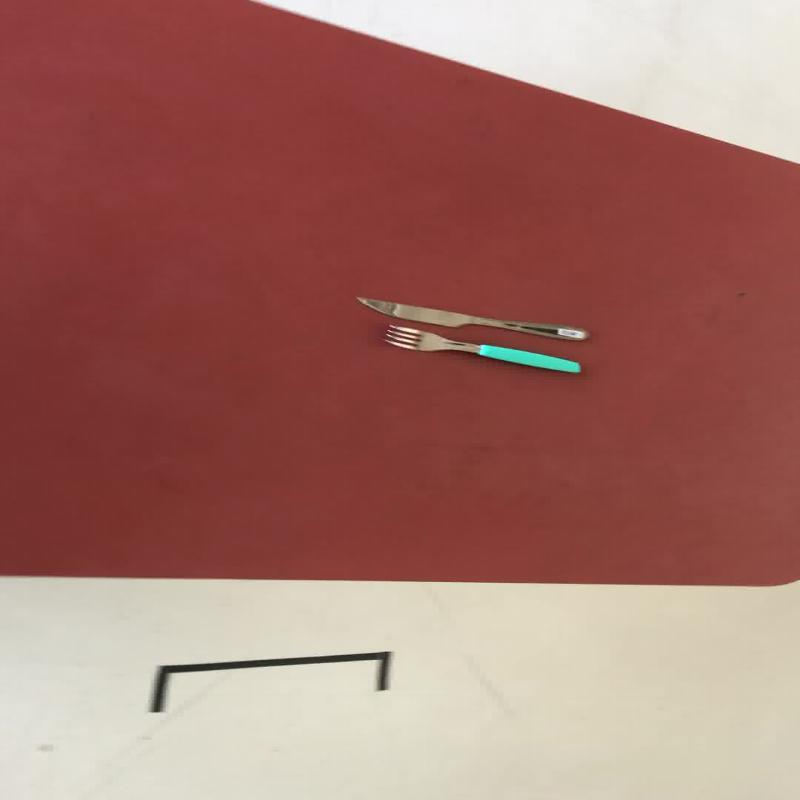fork: (380, 323, 580, 374)
knife: (353, 295, 589, 341)
